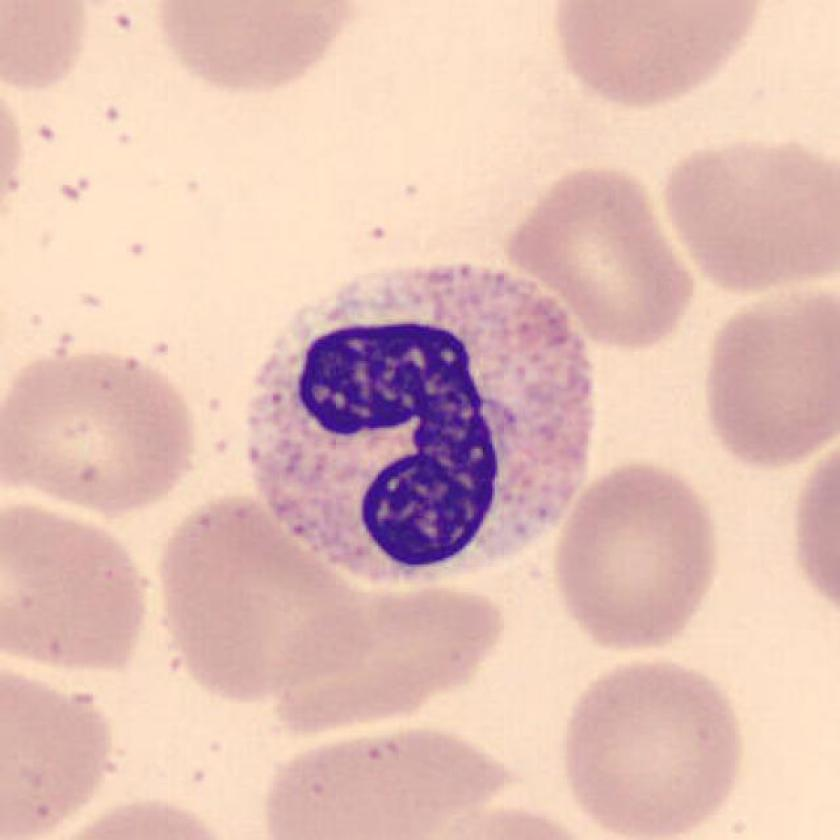neutrophil: (244, 249, 596, 584)
